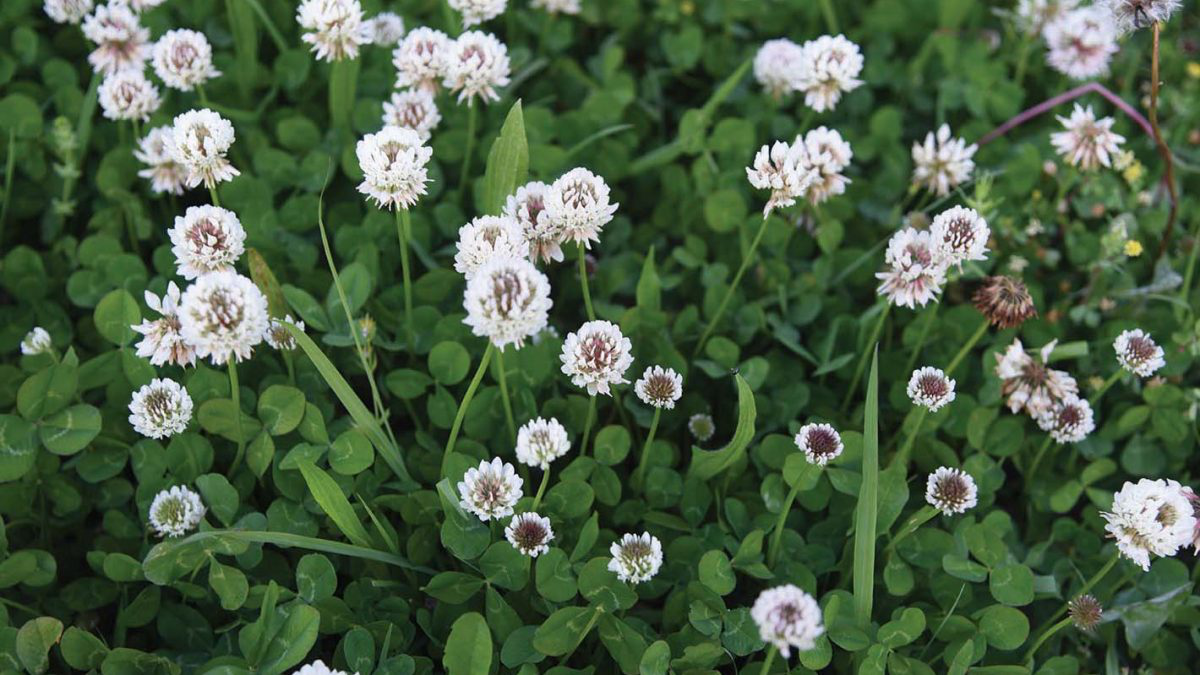clover: (15, 6, 1187, 664)
